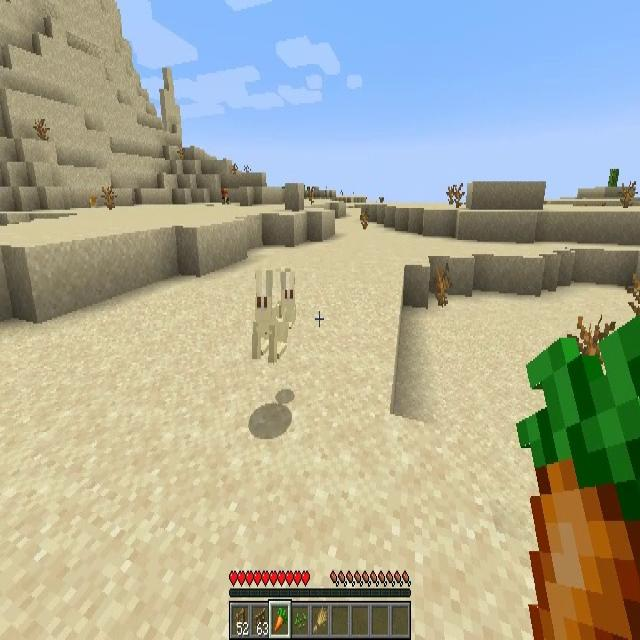rabbit: (252, 270, 287, 359), (276, 272, 295, 322)
